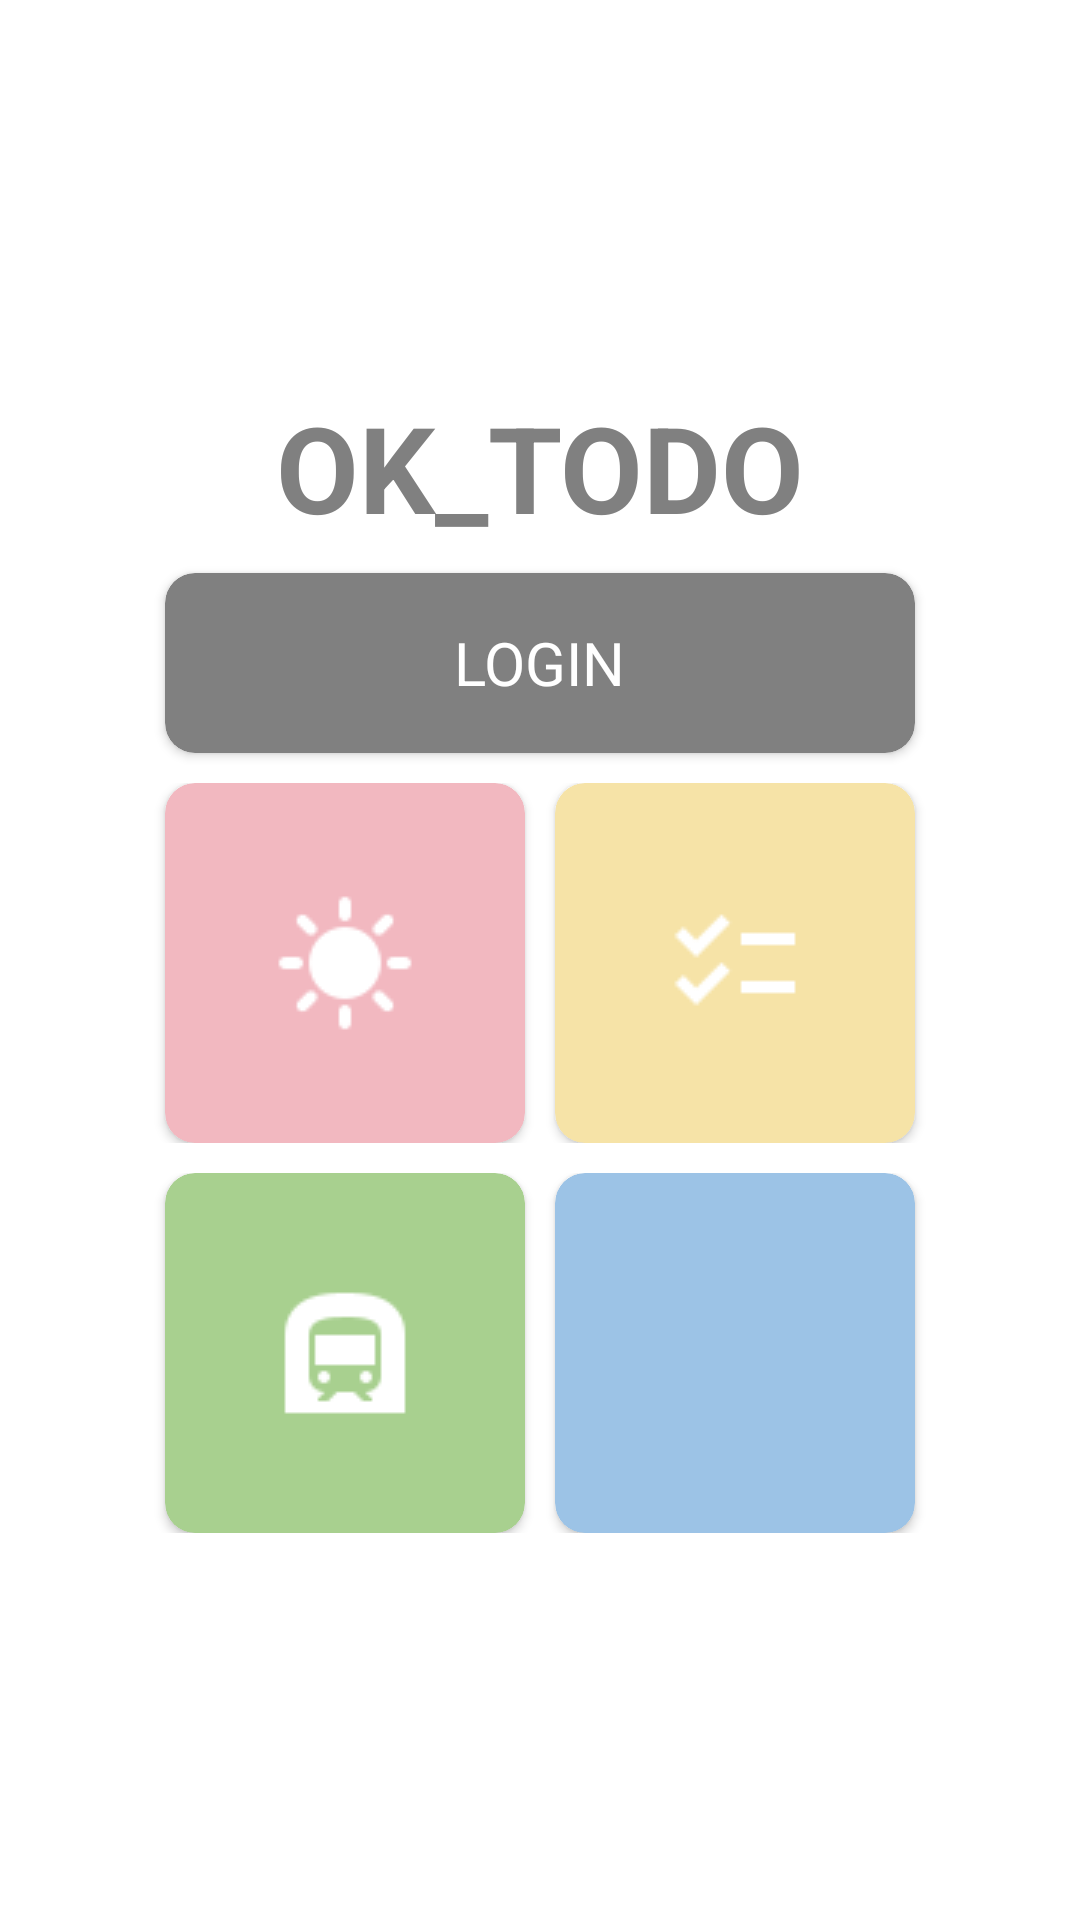

Icons on this 1080×1920 Android screen, each with its box as (x1, y1, x2, y2):
sub: (284, 1292, 406, 1414)
sunny: (279, 897, 411, 1029)
todo: (675, 914, 796, 1005)
